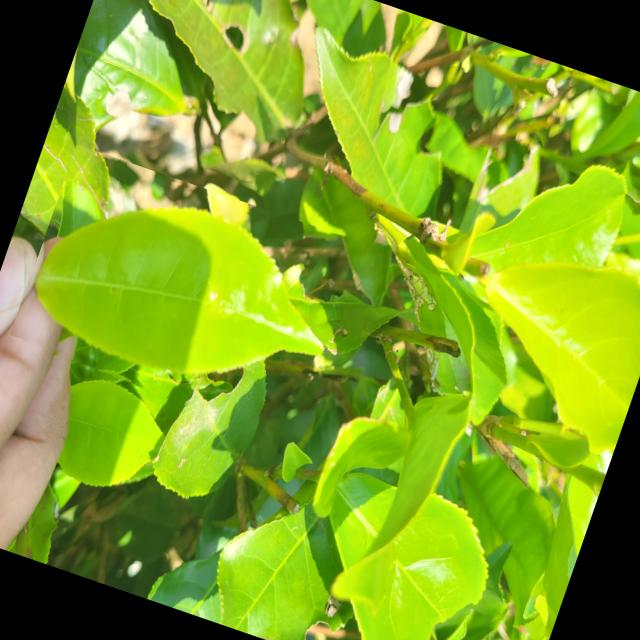Catagory A(1-2 days): (3, 144, 371, 452)
